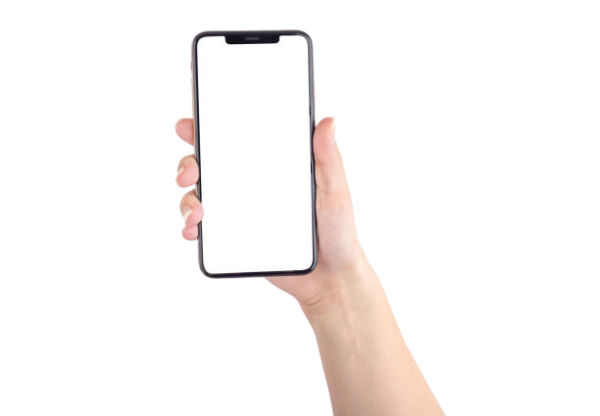phone: (185, 28, 324, 282)
